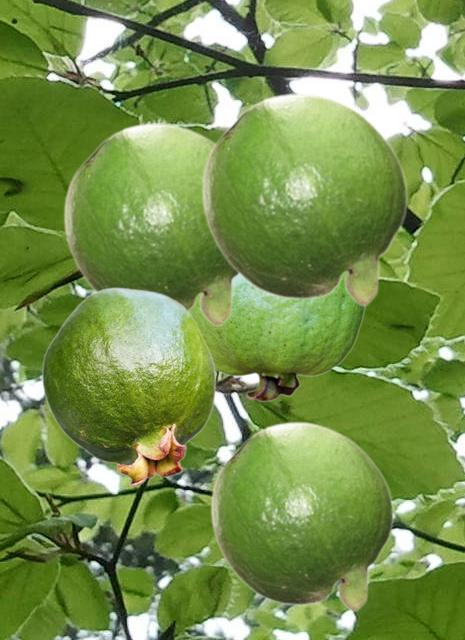guava: (200, 91, 407, 307), (62, 121, 239, 327), (209, 420, 393, 612), (41, 287, 215, 486), (191, 278, 366, 401)
